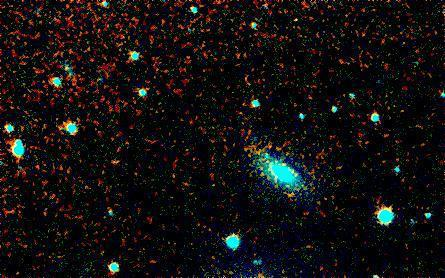star: (280, 4, 310, 34)
